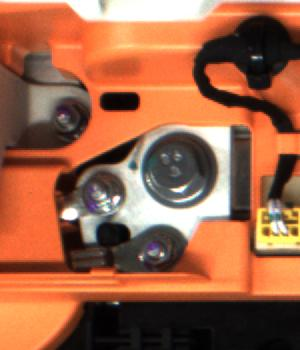nut_b: (131, 126, 233, 215)
